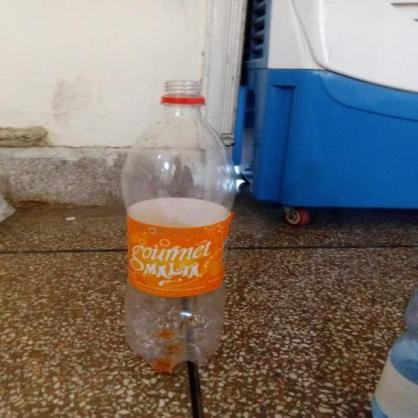bottle: (110, 72, 260, 375)
label: (118, 192, 242, 300)
